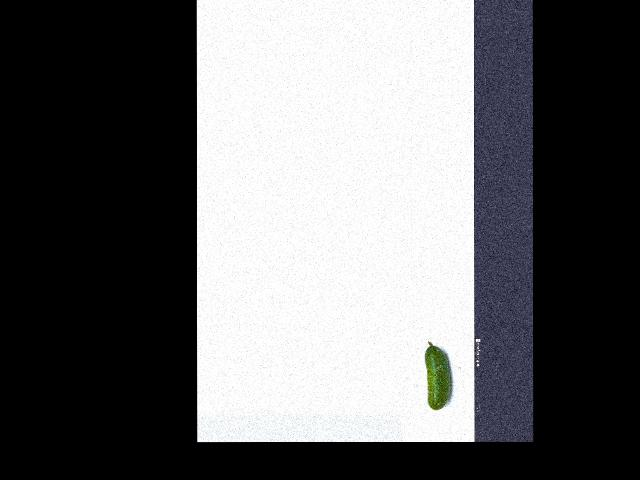cucumber: (424, 341, 450, 410)
